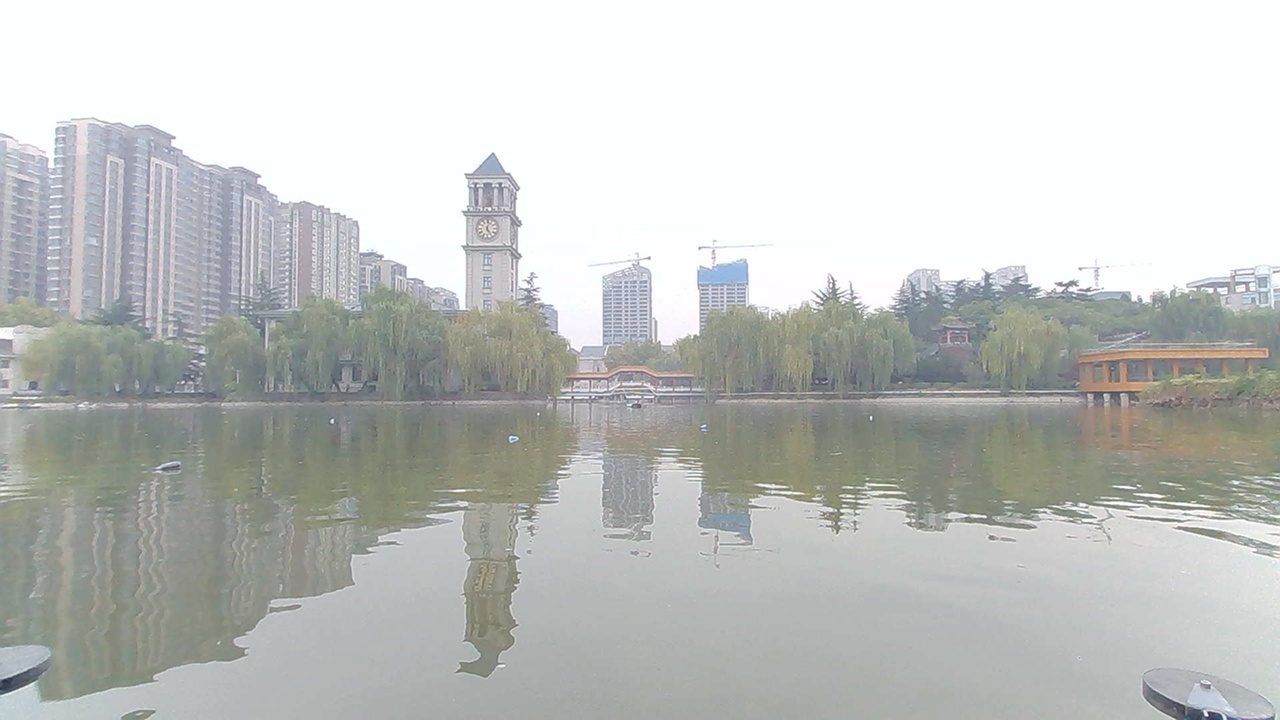bottle: (153, 452, 190, 481), (322, 405, 359, 434), (694, 405, 728, 432), (857, 403, 887, 429), (495, 434, 532, 455), (532, 408, 561, 430)
